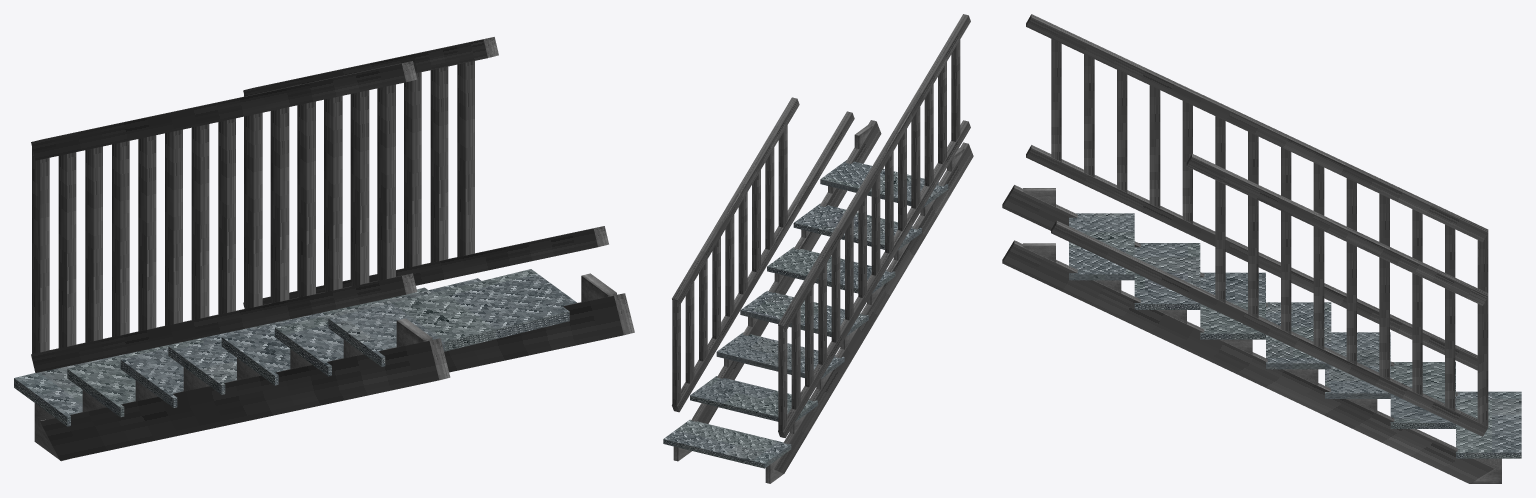
File: metal_stairs_bottom.gltf
The picture shows the model from 3 angles, left to right: view 1: azimuth 30°, elevation 25°; view 2: azimuth 150°, elevation 25°; view 3: azimuth 270°, elevation 25°; orthographic projection. The views are drawn at different scales.
Visible parts, largest first — view 1: Stair bottom; view 2: Stair bottom; view 3: Stair bottom.
Boxes of the visible parts, left/top/right/bottom form: Stair bottom: left=14, top=37, right=634, bottom=461; Stair bottom: left=663, top=14, right=973, bottom=483; Stair bottom: left=1002, top=14, right=1521, bottom=483.
Bounding box in the file's own units: 1.51 × 4.28 × 4.95.
2 materials, 2 textured.
